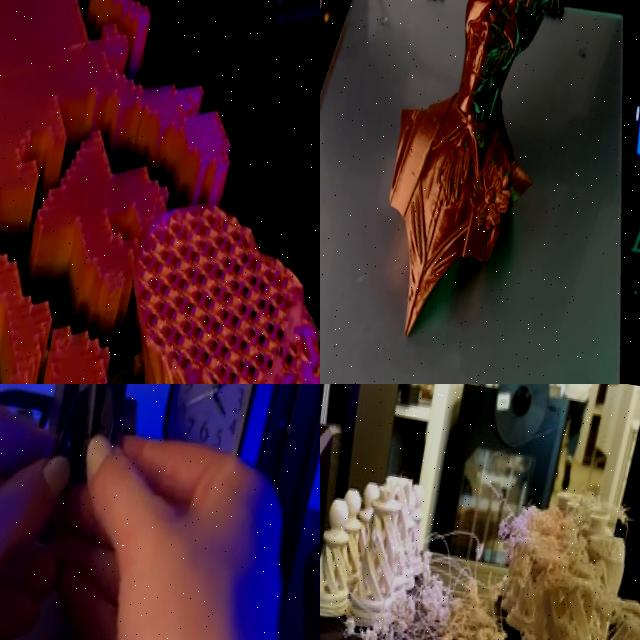spaghetti: (499, 480, 630, 601), (383, 546, 507, 640), (505, 615, 593, 640), (600, 587, 640, 640), (338, 615, 362, 640), (354, 616, 378, 640), (377, 631, 396, 640)
